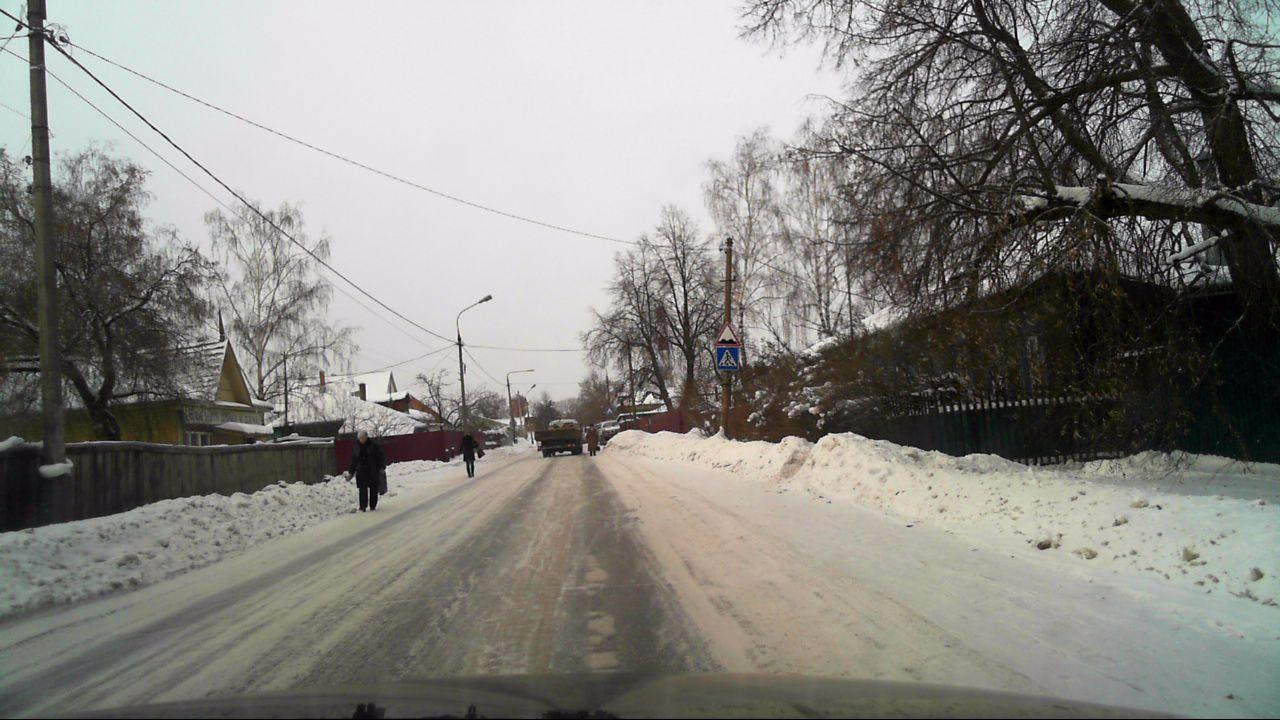1_16: (715, 323, 738, 347)
5_19_1: (717, 347, 738, 369)
